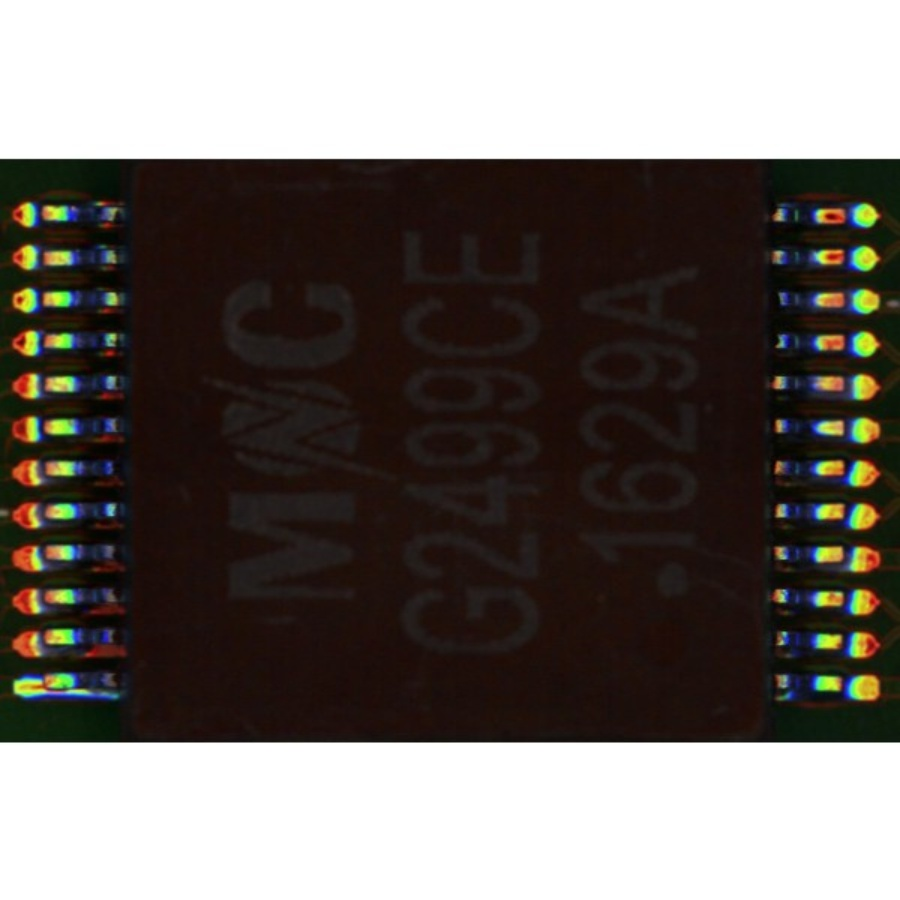Bad_podu: (27, 681, 50, 691)
Bad_qiaojiao: (45, 689, 123, 698)
